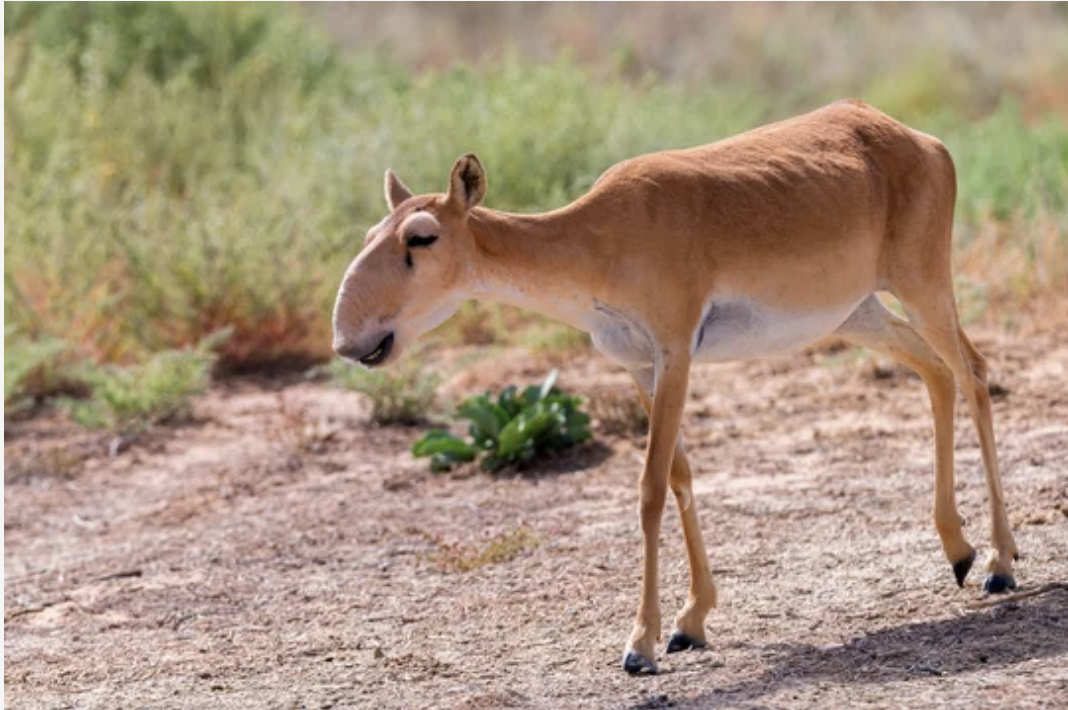saiga: (350, 90, 1031, 666)
